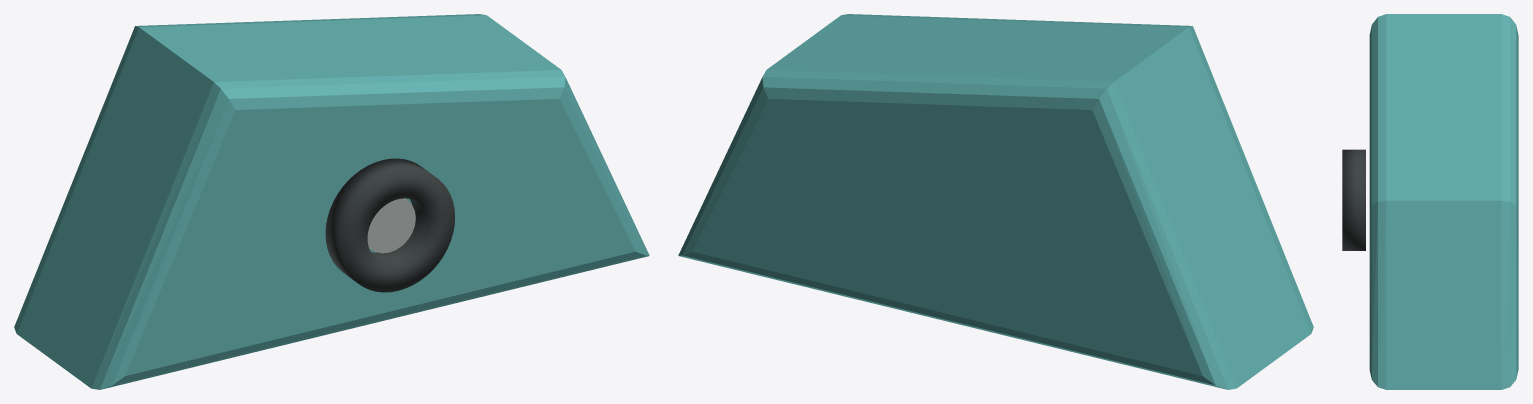
The model's file is indoor-climbing-and-bouldering-gym-indoor-climbing-and-9cb73249__31531.glb.
3 views of the same model, side by side, from view 1: azimuth 30°, elevation 25°; view 2: azimuth 150°, elevation 25°; view 3: azimuth 270°, elevation 25° (orthographic). The views are drawn at different scales.
Visible parts, largest first — view 1: indoor-climbing-and-bouldering-gym-foothold-edge; view 2: indoor-climbing-and-bouldering-gym-foothold-edge; view 3: indoor-climbing-and-bouldering-gym-foothold-edge.
Boxes of the visible parts, x1,y1,x2,y2 form: indoor-climbing-and-bouldering-gym-foothold-edge: [14, 14, 649, 389]; indoor-climbing-and-bouldering-gym-foothold-edge: [678, 14, 1313, 389]; indoor-climbing-and-bouldering-gym-foothold-edge: [1342, 14, 1518, 389].
Size of the model in its own units: 0.146 by 0.0695 by 0.052.
